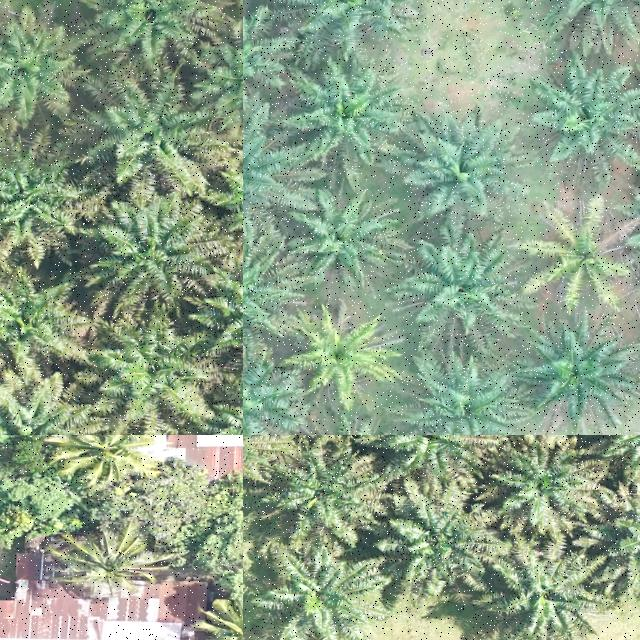Ganoderma: (544, 223, 630, 297), (306, 320, 382, 387)
